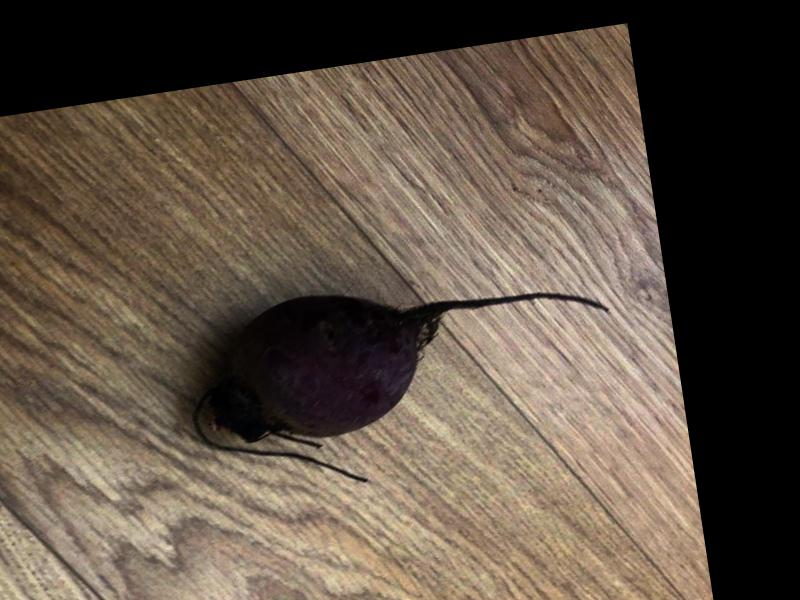Beet: (178, 251, 629, 505)
